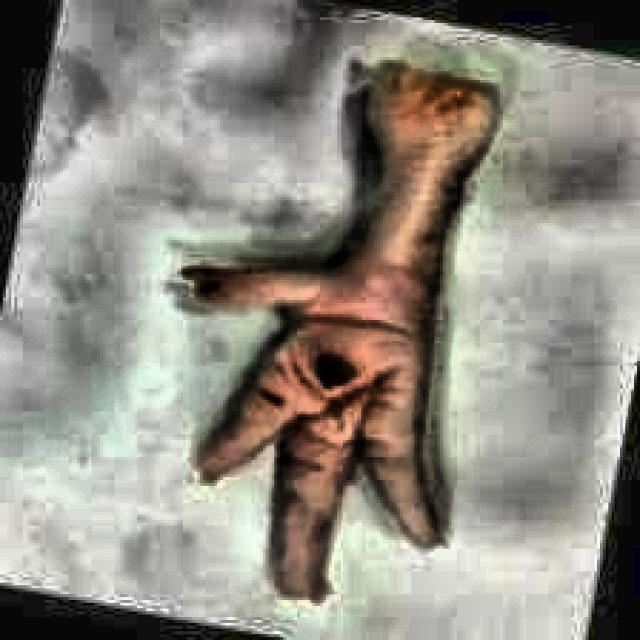Bumble foot: (174, 51, 500, 600)
